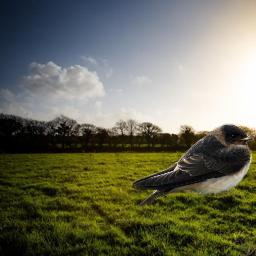Swallow: (131, 123, 254, 207)
